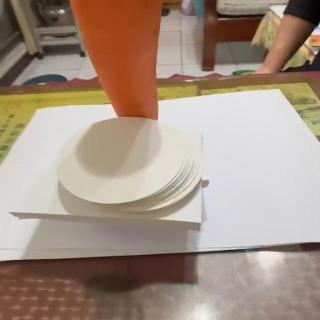carrot: (62, 0, 164, 120)
